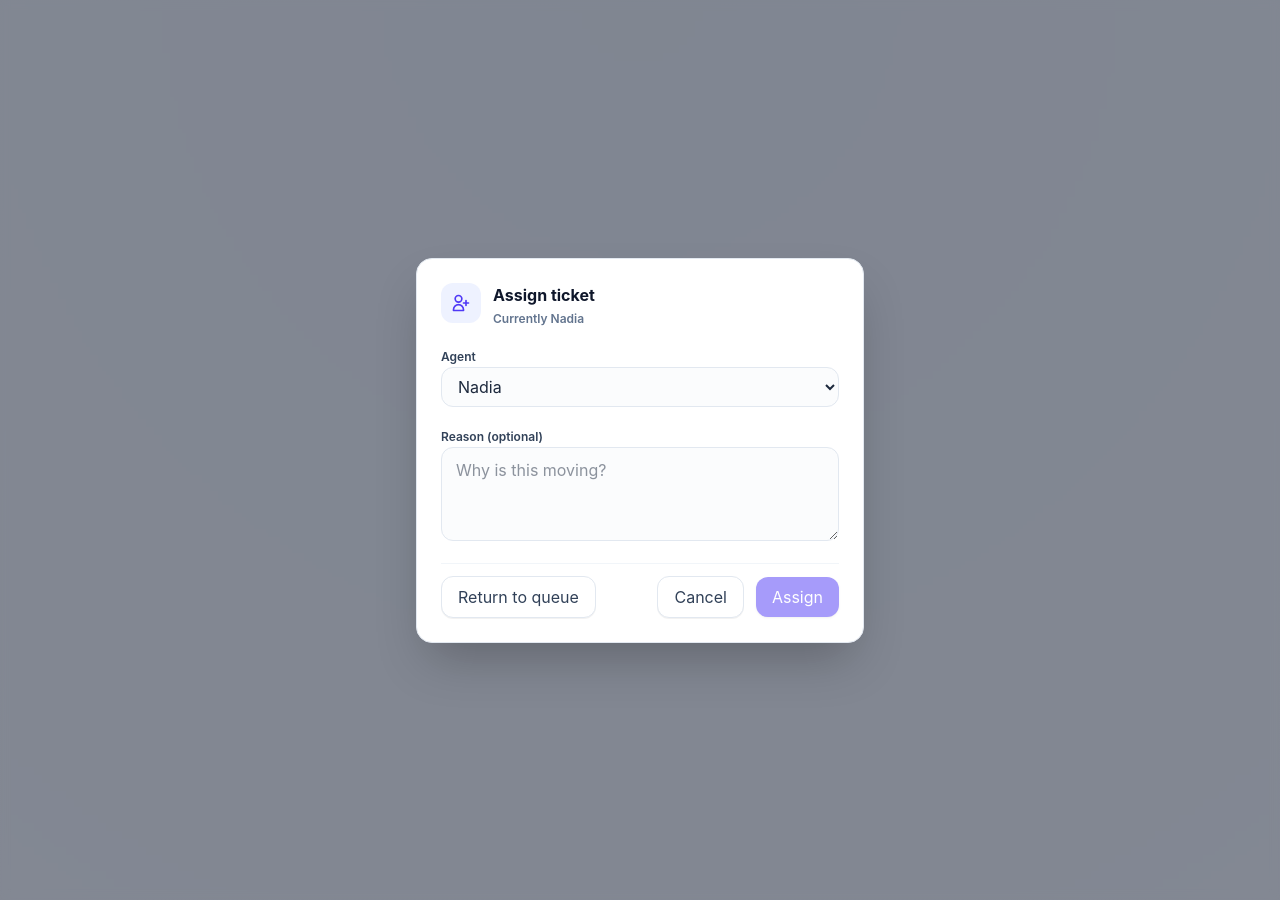
Test: TicketAssignDialog › renders a 422 under reason and stays mounted
Click the button with test id "ticket-assign-unassign" at x=518, y=596, box x1=441 y1=576 x2=596 y2=618
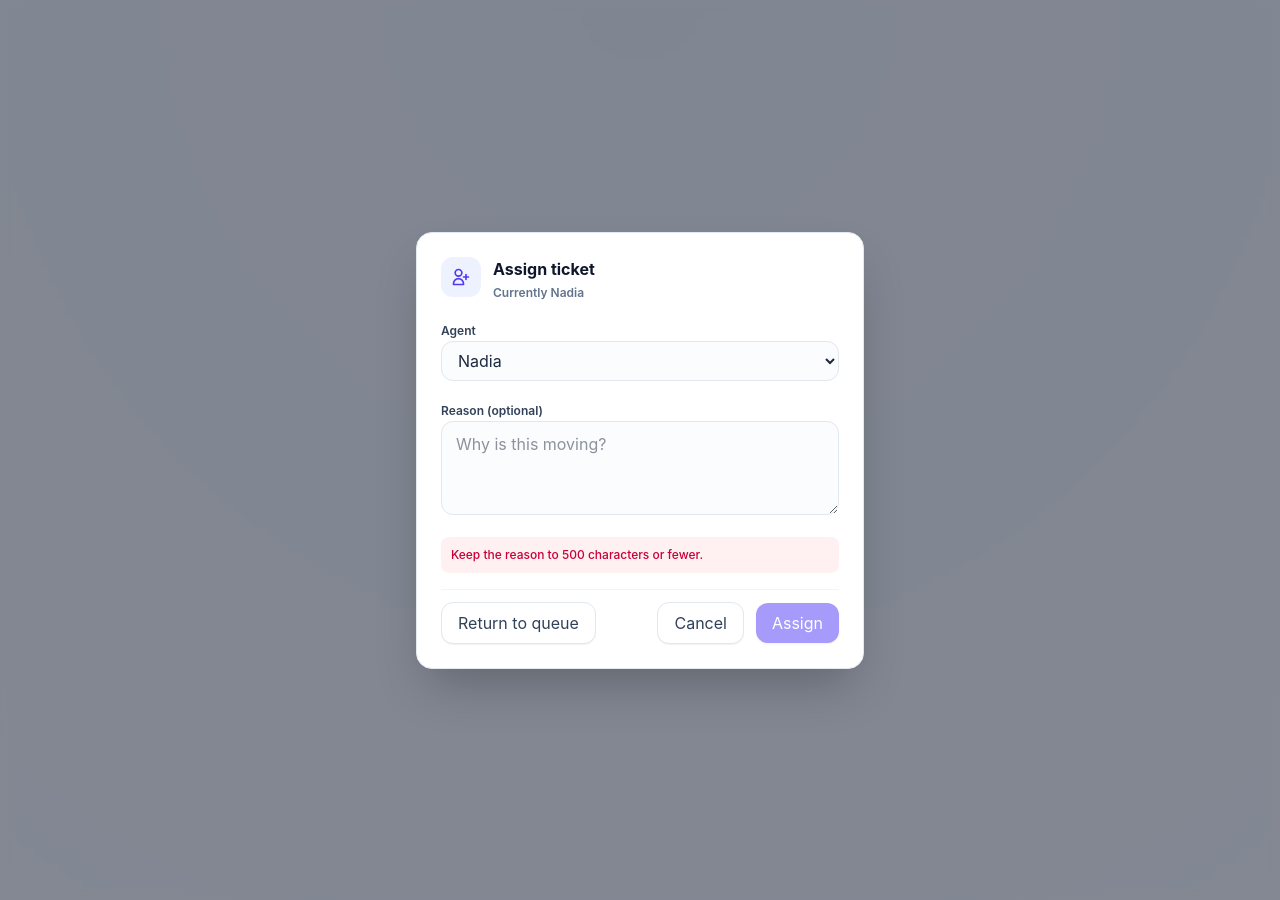
Expected: the text with test id "ticket-assign-error" reads "Keep the reason to 500 characters or fewer.", x1=451 y1=546 x2=703 y2=562
